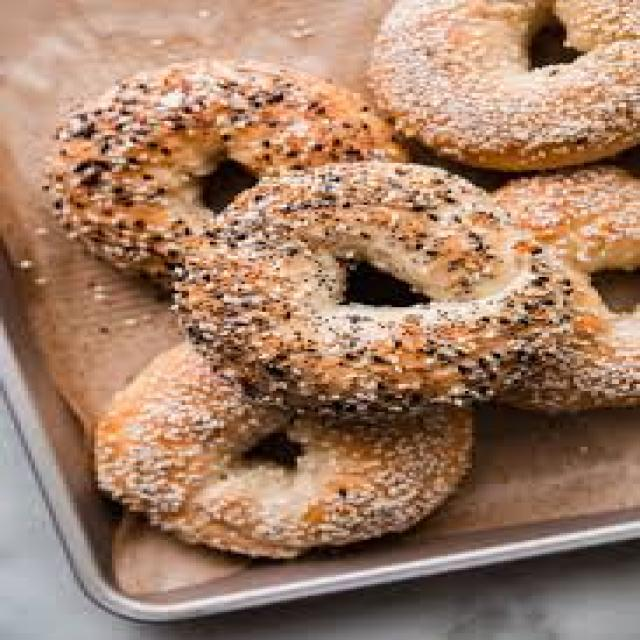Bagel: (175, 163, 603, 406), (100, 344, 473, 558), (56, 60, 408, 278), (374, 0, 639, 171), (494, 166, 639, 409)
